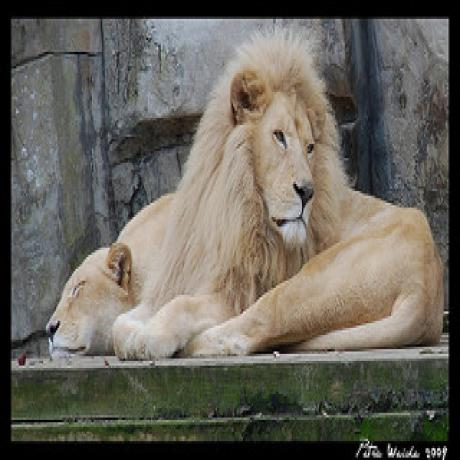Lion: (181, 28, 444, 358), (47, 190, 178, 361)
